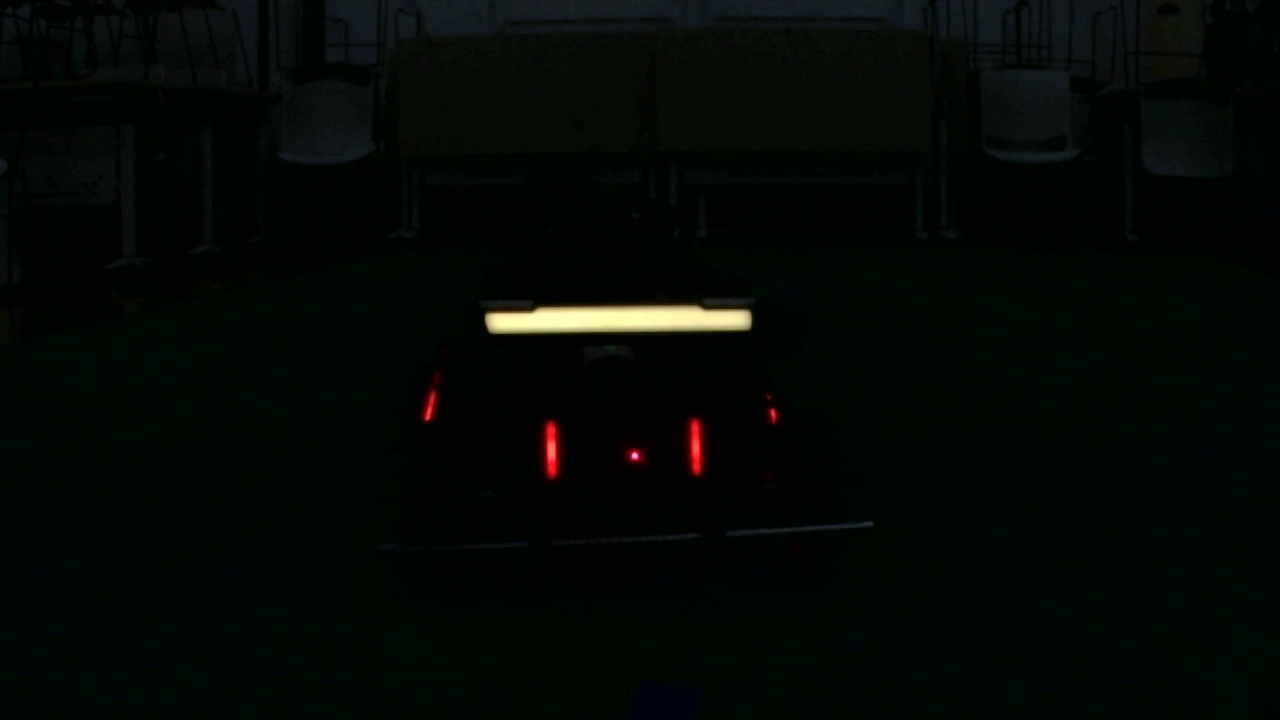lamp: (539, 416, 560, 477), (688, 418, 704, 477)
pair1: (542, 419, 704, 478)
